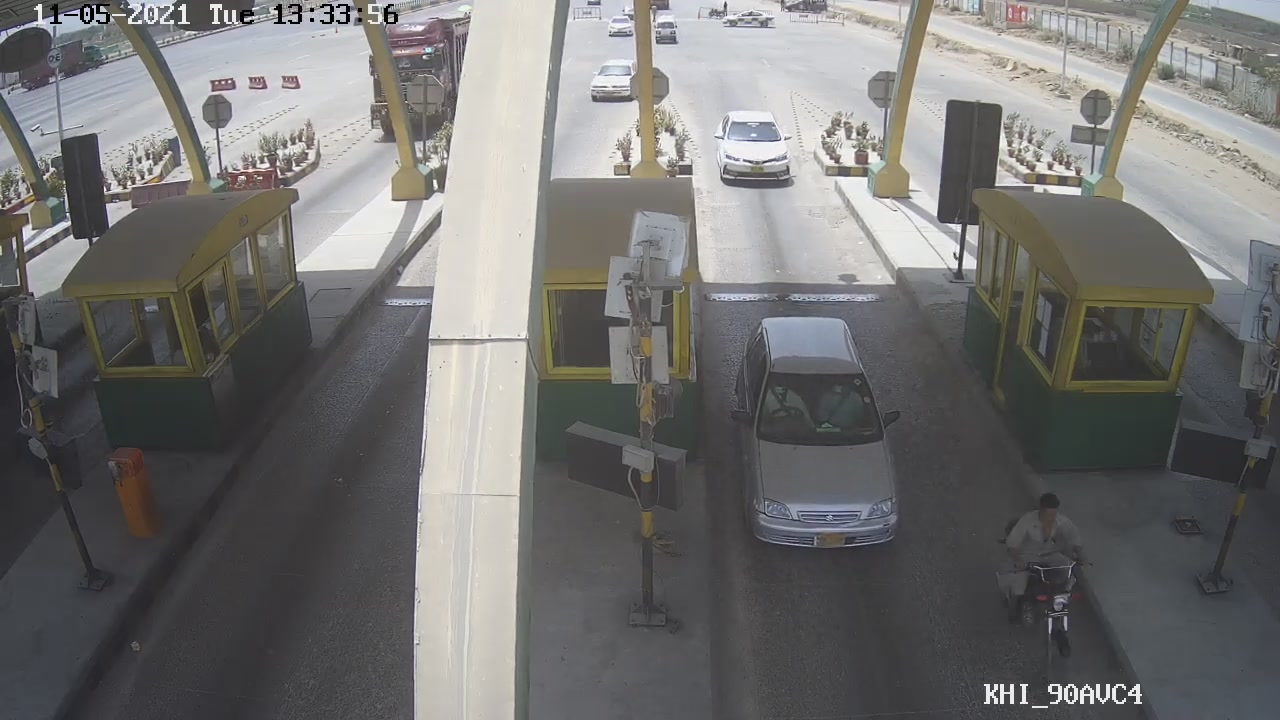F1: (729, 313, 908, 555)
